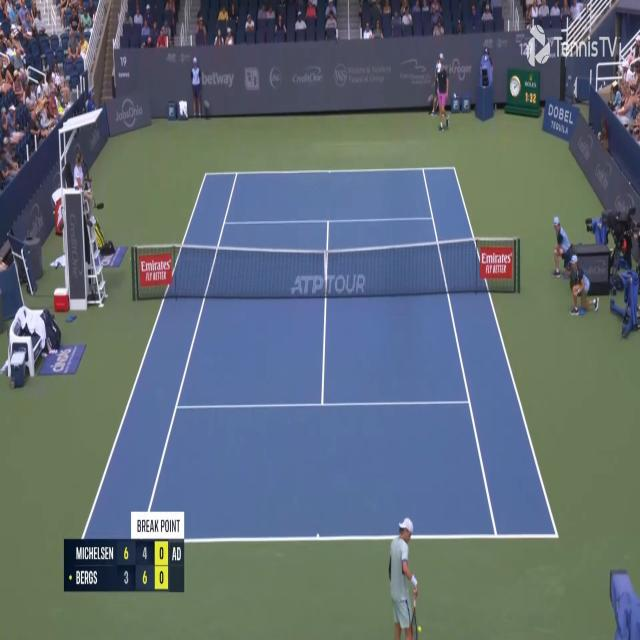tennis-player: (388, 514, 421, 639), (431, 58, 452, 134)
